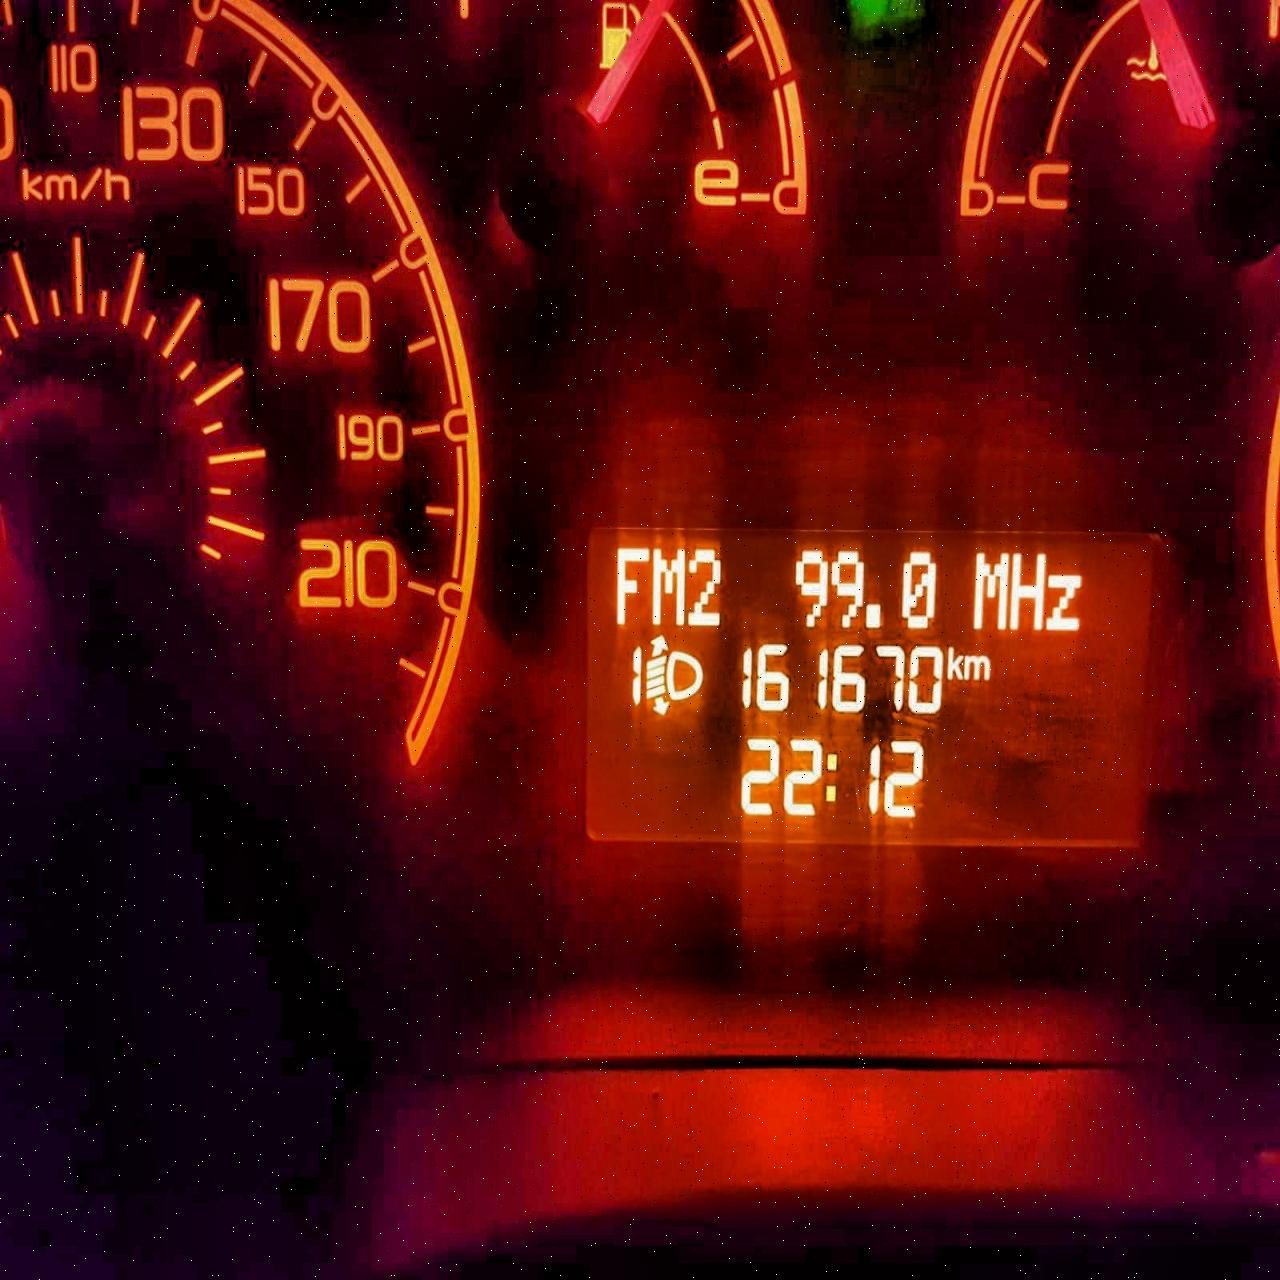-: (862, 593, 886, 627)
0: (899, 545, 939, 633), (906, 640, 942, 717)
1: (864, 738, 883, 825), (626, 638, 644, 719), (738, 638, 755, 717), (813, 640, 829, 717)
2: (884, 734, 926, 824), (740, 734, 782, 819), (688, 543, 726, 629), (782, 733, 819, 818)
6: (757, 638, 795, 715), (831, 639, 867, 715)
7: (874, 640, 907, 715)
9: (794, 539, 829, 627), (829, 540, 862, 629)
X: (971, 544, 1008, 632), (1008, 546, 1044, 632), (612, 540, 647, 627), (652, 543, 686, 628), (1046, 570, 1084, 634), (822, 743, 840, 809), (962, 651, 990, 685), (946, 640, 961, 685)
odometer: (576, 509, 1163, 856)
